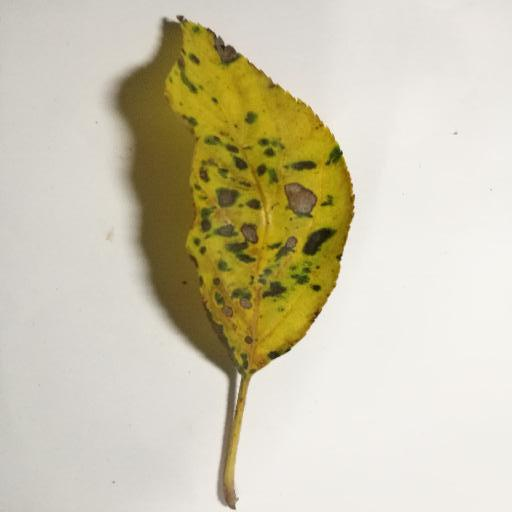Brown_Spot: (282, 175, 319, 215), (209, 39, 243, 76), (240, 221, 263, 249), (216, 185, 240, 207), (243, 334, 269, 351), (217, 299, 235, 323), (281, 236, 298, 253), (238, 296, 254, 313)
